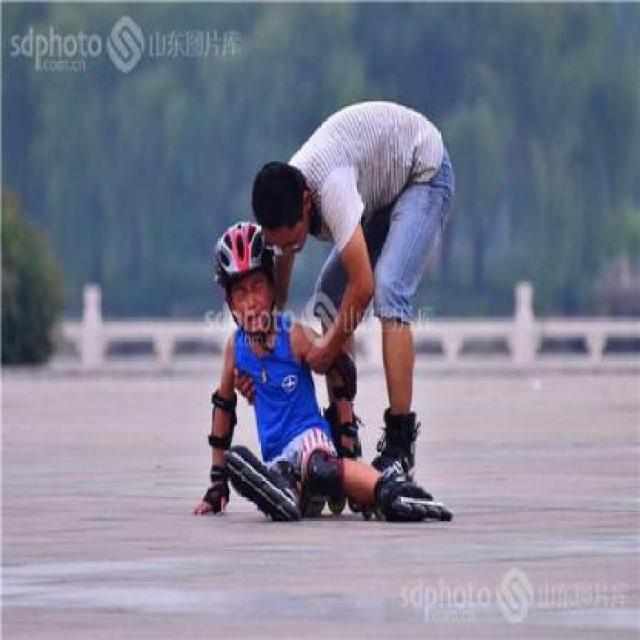fall: (190, 217, 439, 529)
